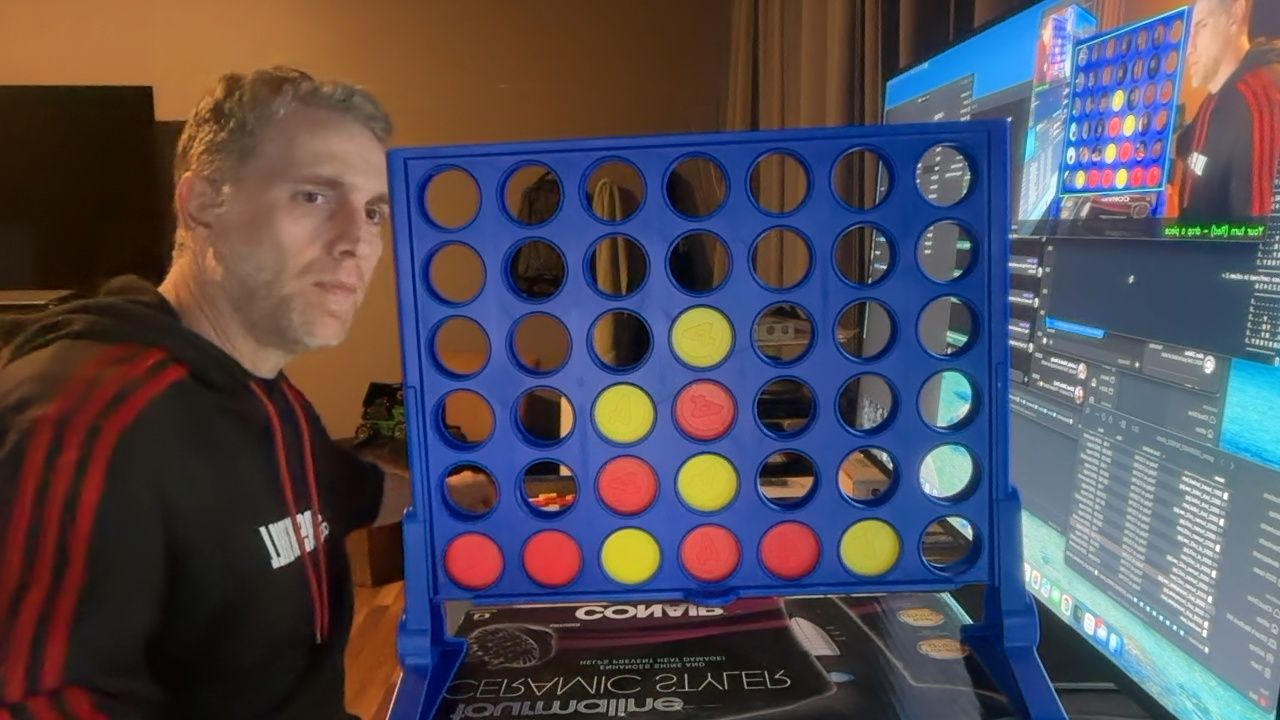red piece: (674, 380, 735, 440), (760, 521, 820, 580), (597, 456, 657, 515), (444, 532, 503, 590), (680, 525, 740, 582), (522, 530, 582, 587)
yellow piece: (670, 306, 733, 367), (593, 383, 655, 443), (677, 453, 738, 512), (840, 519, 901, 576), (600, 528, 660, 584)
